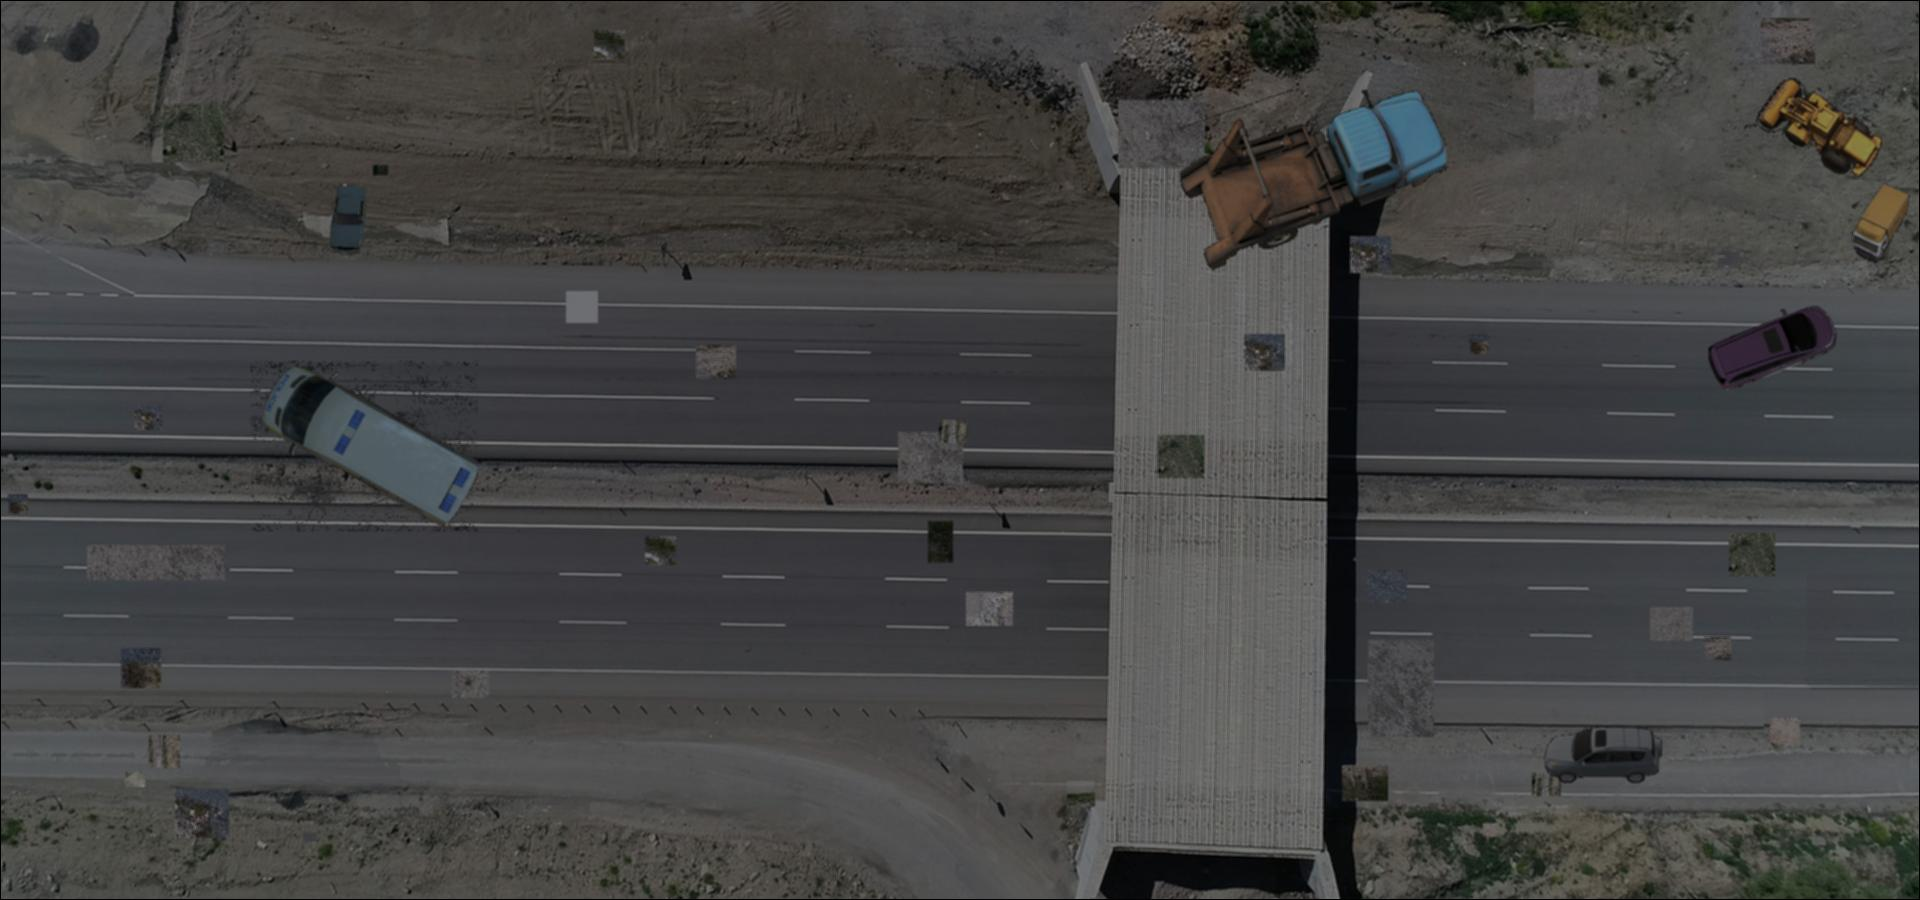arac: (1180, 91, 1446, 271), (251, 361, 478, 531), (1753, 77, 1891, 178), (1704, 300, 1837, 392), (1542, 725, 1669, 786), (1851, 182, 1911, 264), (331, 185, 369, 255)
